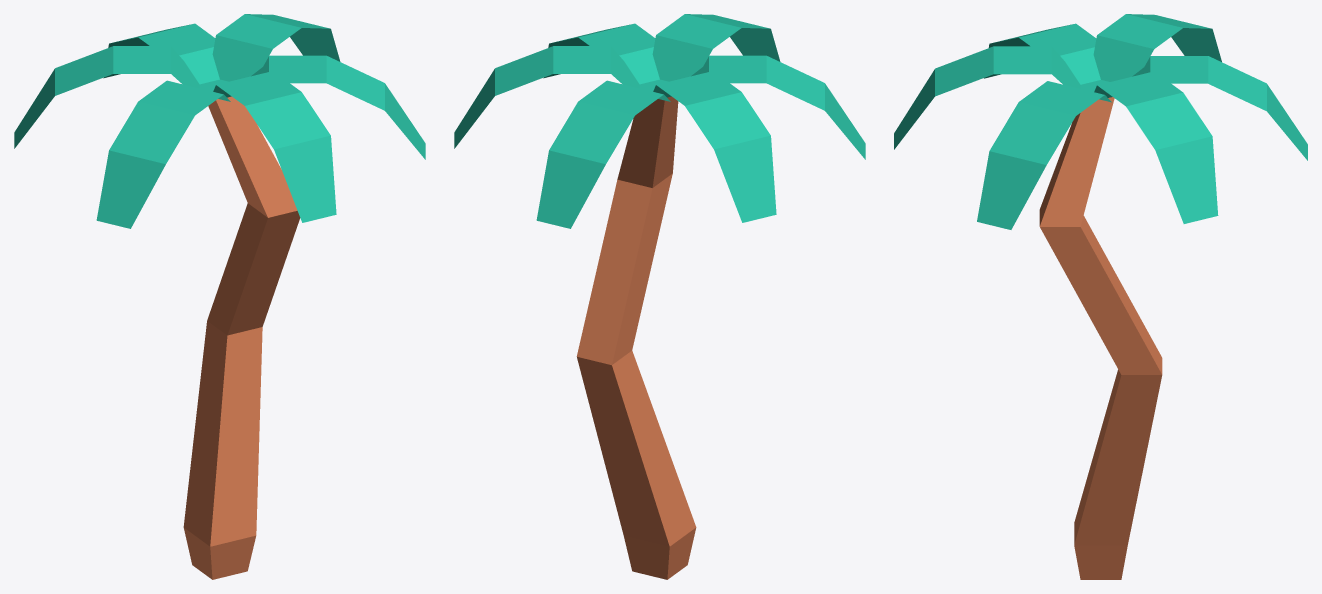
Rendered from tree_palmBend.dae.
The picture shows the model from 3 angles, left to right: view 1: azimuth 30°, elevation 25°; view 2: azimuth 150°, elevation 25°; view 3: azimuth 270°, elevation 25°; orthographic projection.
Visible parts, largest first — view 1: tree_palmBend; view 2: tree_palmBend; view 3: tree_palmBend.
Boxes of the visible parts, x1,y1,x2,y2 form: tree_palmBend: (14, 14, 425, 579); tree_palmBend: (454, 14, 865, 579); tree_palmBend: (894, 14, 1307, 579).
Size of the model in its own units: 0.9355 by 1.38 by 1.01.
